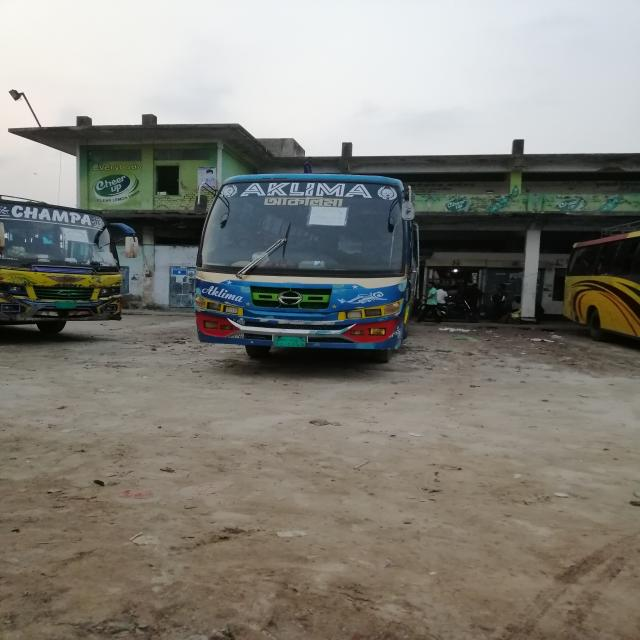Bus: (183, 166, 434, 360), (1, 191, 143, 336)
